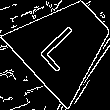L_NE: (36, 16, 94, 73)
